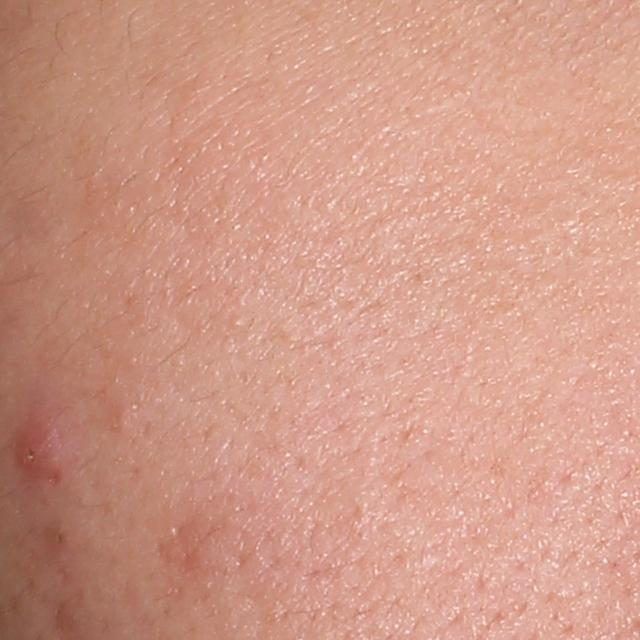comedo: (40, 520, 74, 551)
papule: (13, 414, 69, 478)
